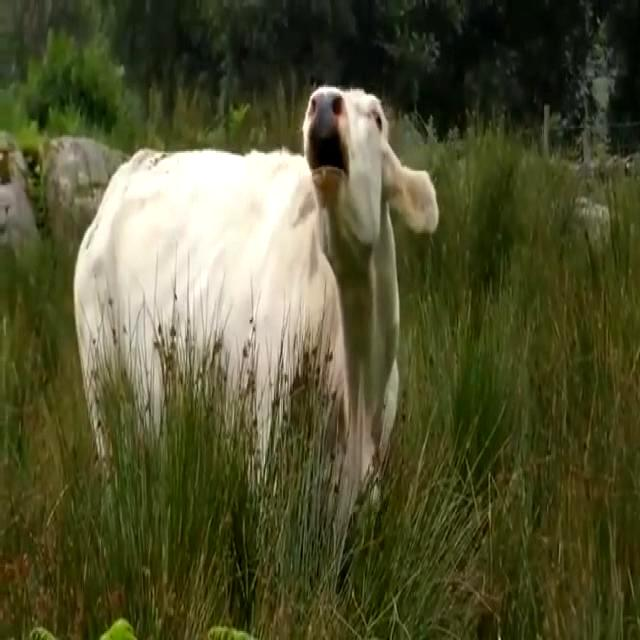COW: (75, 89, 439, 510)
